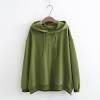sweater: (20, 20, 80, 94)
